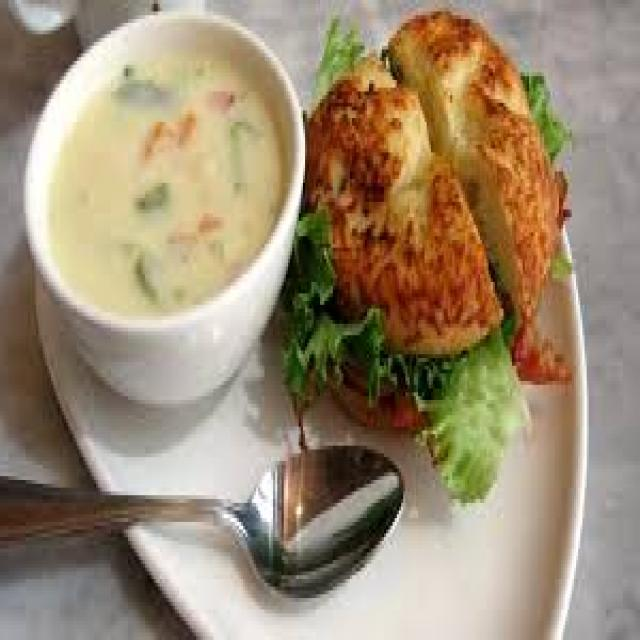Sandwich: (290, 4, 587, 476)
